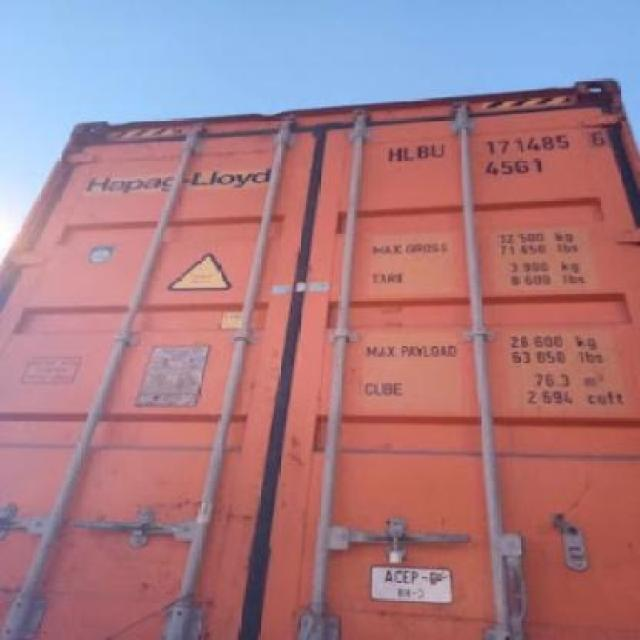ISO: (486, 156, 544, 177)
container_number: (387, 126, 608, 160)
